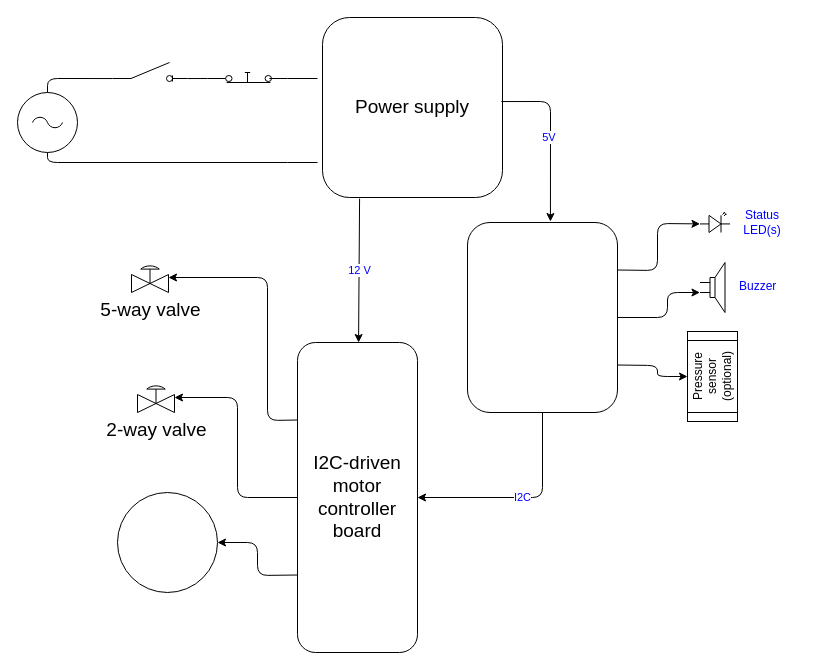
Image size: 815x670. Some labels were removed from this diagram. The centre of each missing label's shape, as x and y in pixels:
"Arduino-style MCU board" belongs at (x=542, y=317).
"Fan motor" belongs at (x=167, y=542).
